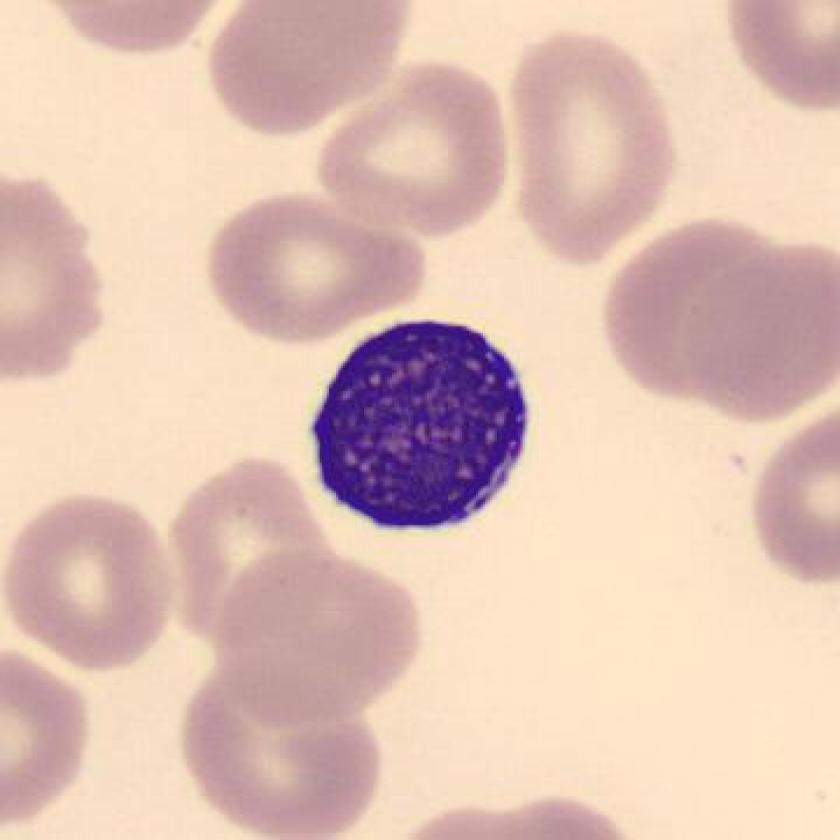lymphocyte: (293, 302, 540, 542)
